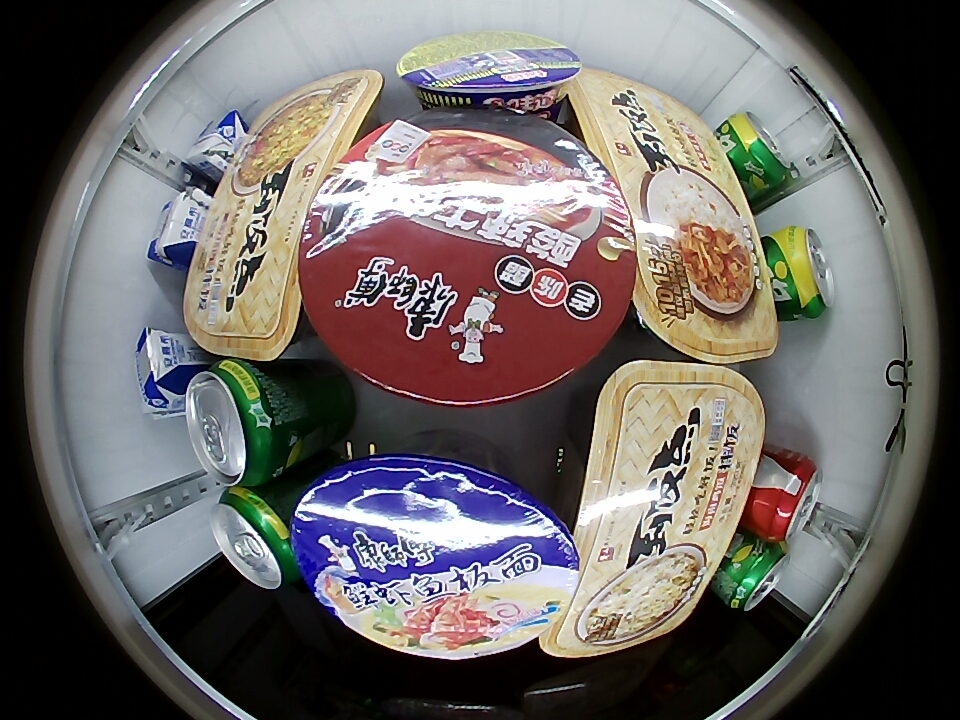anmuxi: (147, 185, 210, 270), (133, 326, 186, 418), (183, 110, 248, 178)
daofandian1: (552, 359, 766, 658)
daofandian3: (182, 65, 379, 364)
daofandian4: (573, 70, 780, 364)
heweidao: (396, 30, 581, 116)
kele: (758, 451, 824, 543)
suanlaniurou: (297, 105, 638, 407)
xianxiayuban: (291, 451, 582, 660)
xuebi2: (186, 359, 297, 487), (210, 487, 300, 590), (721, 110, 793, 190), (775, 225, 835, 320), (717, 539, 790, 612)
